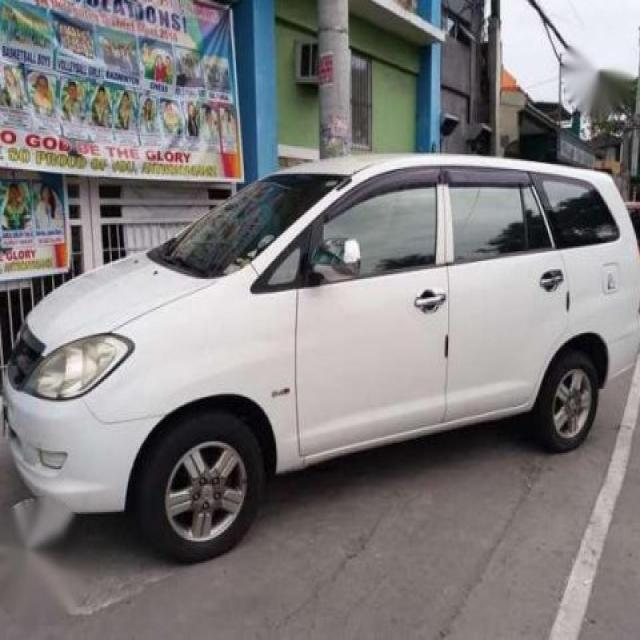light_vehicle: (2, 152, 639, 565)
